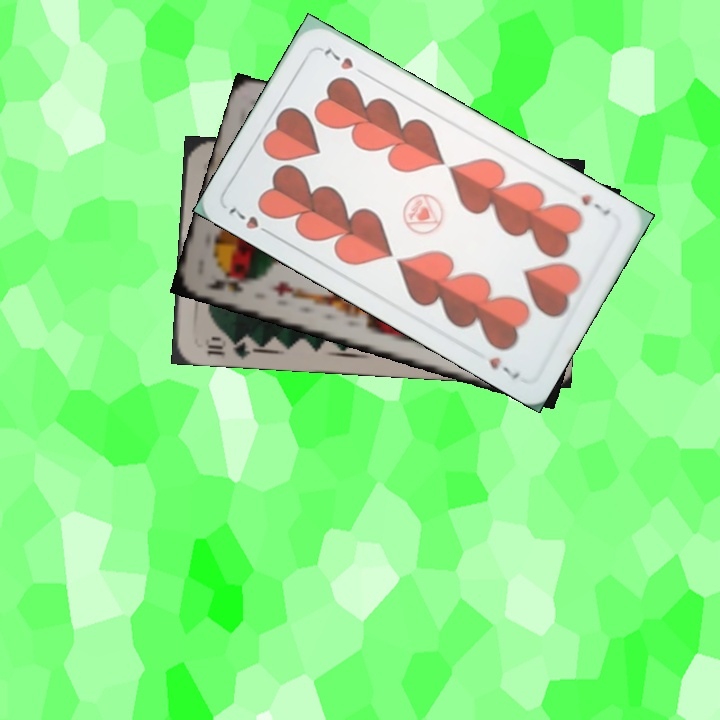G10: (203, 331, 257, 360)
H7: (224, 203, 277, 239), (577, 190, 613, 219)
SK: (201, 273, 245, 296)
